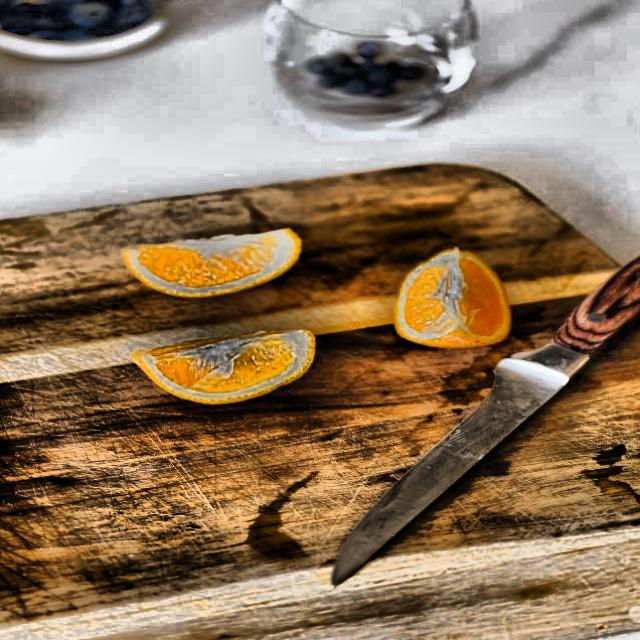knife: (318, 242, 640, 594)
